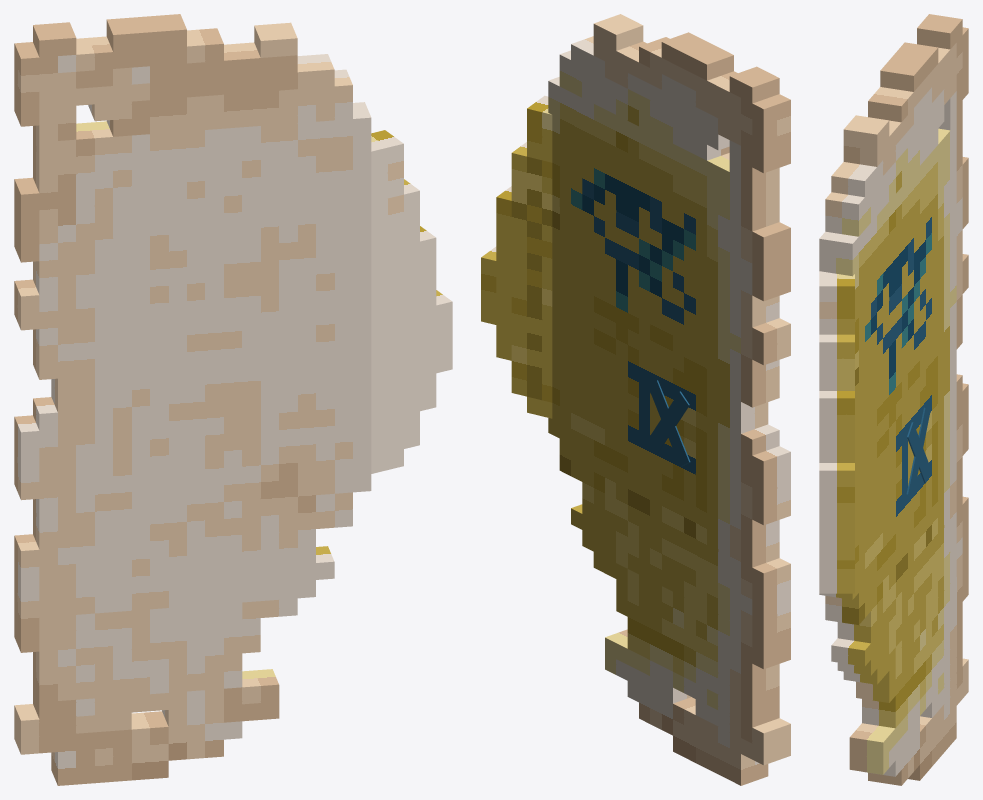
File: lost_page_03I_IX.gltf
3 views of the same model, side by side, from view 1: azimuth 30°, elevation 25°; view 2: azimuth 150°, elevation 25°; view 3: azimuth 270°, elevation 25° (orthographic). The views are drawn at different scales.
Visible parts, largest first — view 1: MapLeft$$(4)-Local, MapCenter$$(4)-Local; view 2: MapLeft$$(4)-Local, MapCenter$$(4)-Local, V01-Local, V02-Local; view 3: MapLeft$$(4)-Local, MapCenter$$(4)-Local, V01-Local, V02-Local.
Part boxes in pixels (<box>): MapLeft$$(4)-Local: <box>14,14,371,785</box>; MapCenter$$(4)-Local: <box>371,130,452,473</box>; MapLeft$$(4)-Local: <box>548,14,790,785</box>; MapCenter$$(4)-Local: <box>481,95,552,418</box>; V01-Local: <box>647,380,690,466</box>; V02-Local: <box>647,391,689,454</box>; MapLeft$$(4)-Local: <box>819,14,968,785</box>; MapCenter$$(4)-Local: <box>819,271,854,593</box>; V01-Local: <box>907,422,930,483</box>; V02-Local: <box>906,407,930,497</box>.
Size of the model in its own units: 22.85 by 44 by 8.38.
4 materials, 4 textured.
